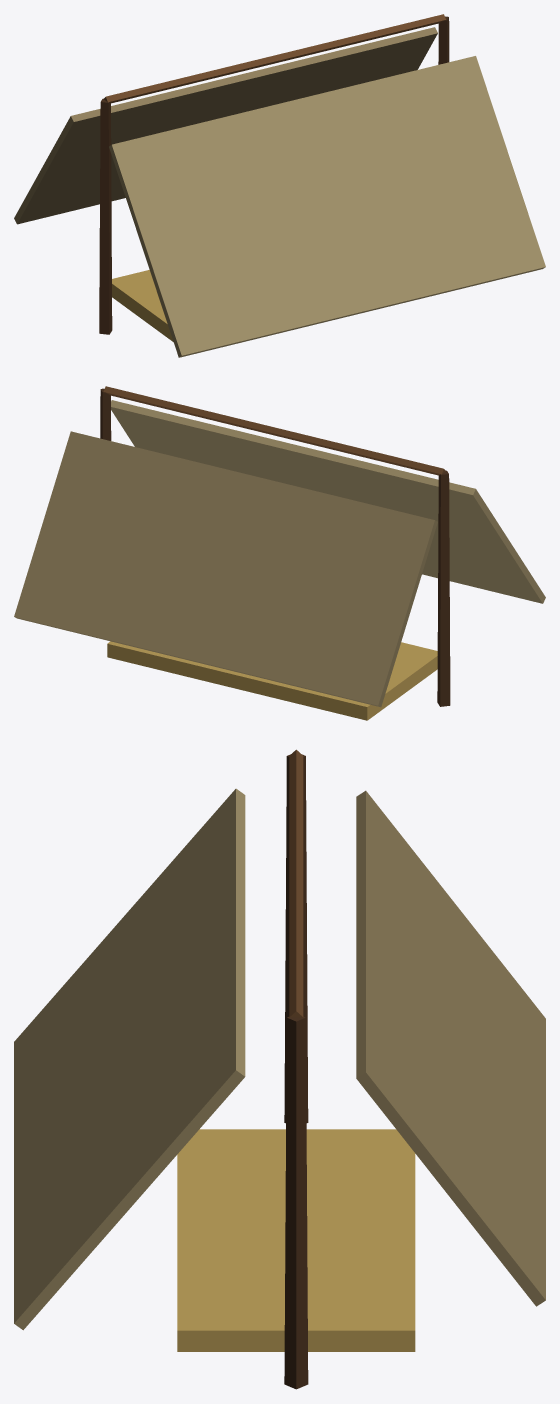
The model's file is a3s_rag_tent.glb.
3 views of the same model, one above another, from view 1: azimuth 30°, elevation 25°; view 2: azimuth 150°, elevation 25°; view 3: azimuth 270°, elevation 25° (orthographic). The views are drawn at different scales.
Visible parts, largest first — view 1: a3s_rag_tent; view 2: a3s_rag_tent; view 3: a3s_rag_tent.
Boxes of the visible parts, <box> form: a3s_rag_tent: <box>14,14,545,357</box>; a3s_rag_tent: <box>14,386,545,720</box>; a3s_rag_tent: <box>14,749,545,1389</box>.
Size of the model in its own units: 2.8 by 1.73 by 2.23.
